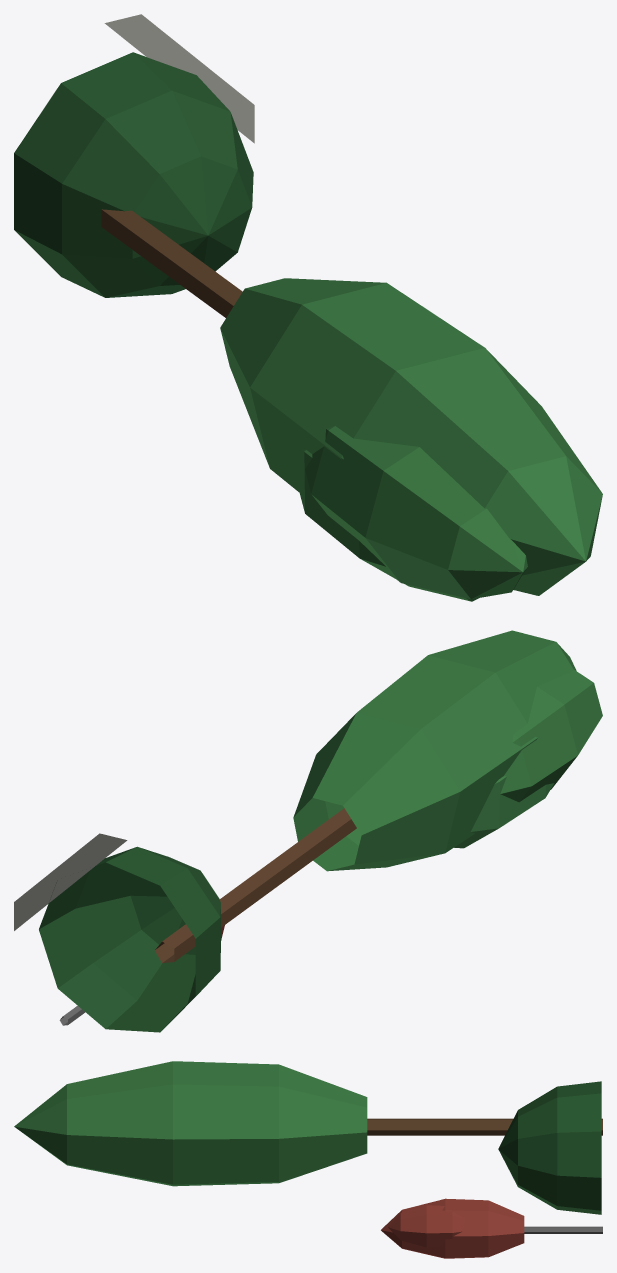
Rendered from complete.glb.
3 renders of one model, top to bottom at view 1: azimuth 30°, elevation 25°; view 2: azimuth 150°, elevation 25°; view 3: azimuth 270°, elevation 25°, orthographic. The views are drawn at different scales.
Visible parts, largest first — view 1: complete; view 2: complete; view 3: complete.
Boxes of the visible parts, box(x1,y1,x2,y2) form: complete: box(14, 14, 602, 601); complete: box(14, 630, 602, 1032); complete: box(14, 1061, 602, 1258).
Size of the model in its own units: 15.42 by 14.4 by 45.
